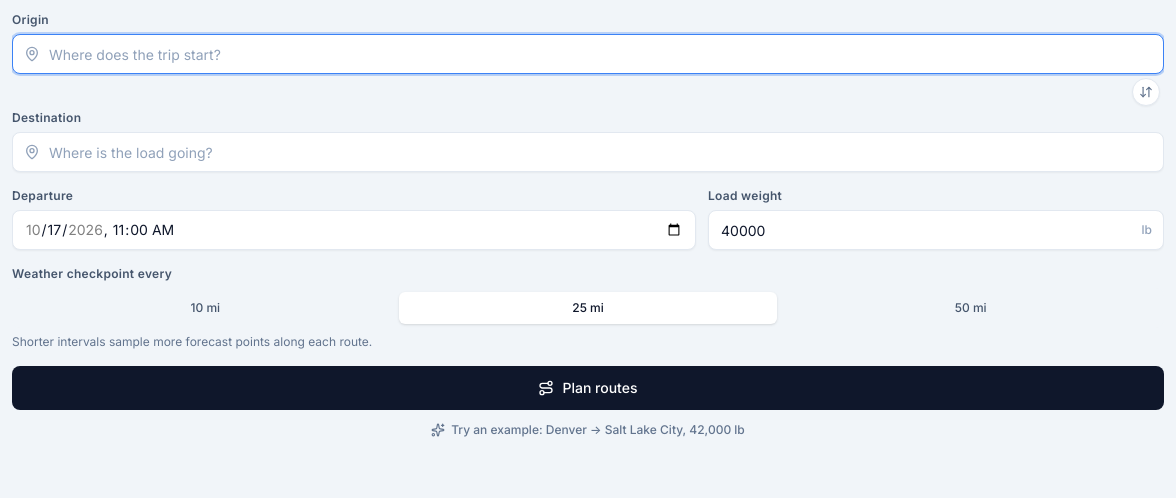
Scenario: TripForm › requires both places to be chosen from the list
Click the button "Plan routes" at {"x": 588, "y": 388}, box [12,366,1164,410]
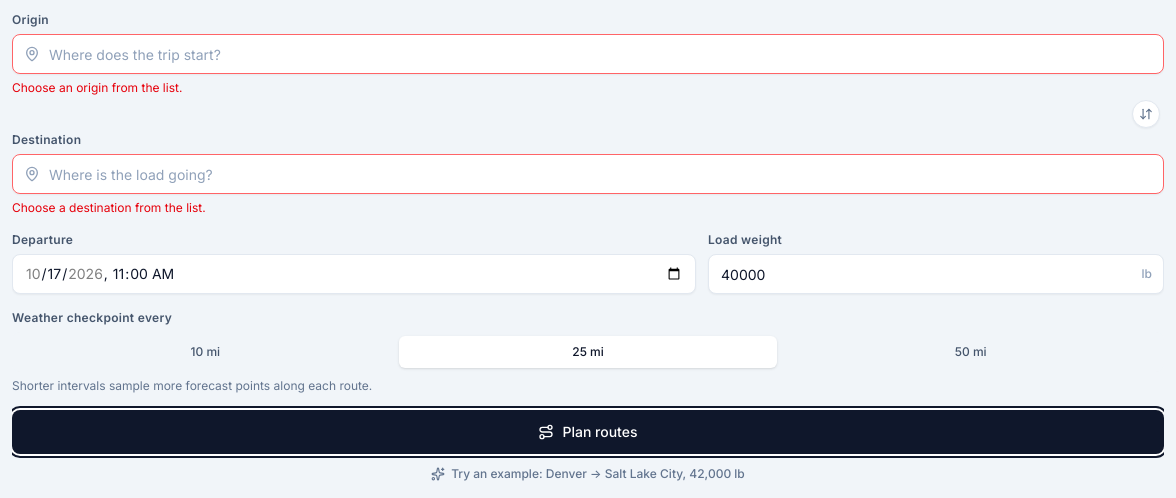
expect the text "Choose an origin from the list." is shown: met, box [12,80,182,95]
expect the text "Choose a destination from the list." is shown: met, box [12,200,206,215]
